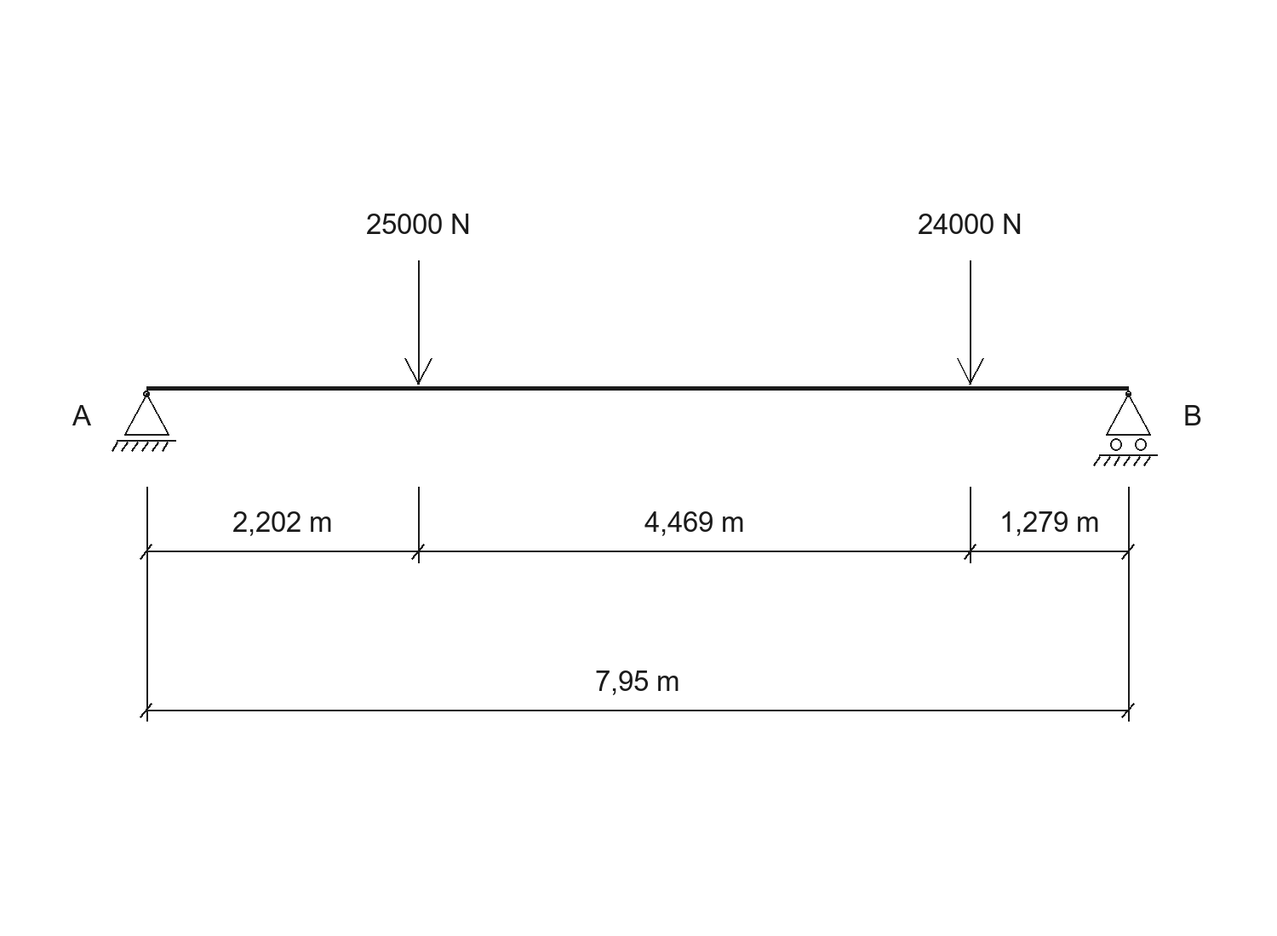pin_support: (112, 391, 176, 452)
point_load: (404, 260, 432, 385), (957, 260, 984, 385)
roller_support: (1093, 391, 1158, 466)
